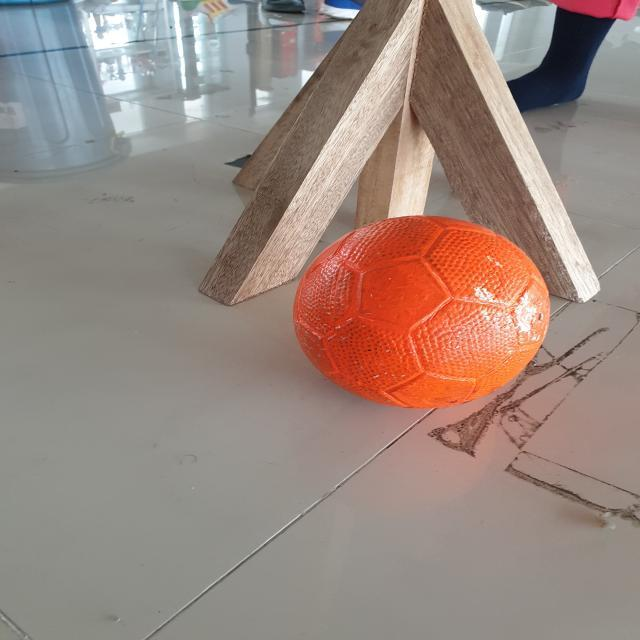bola: (287, 208, 559, 426)
